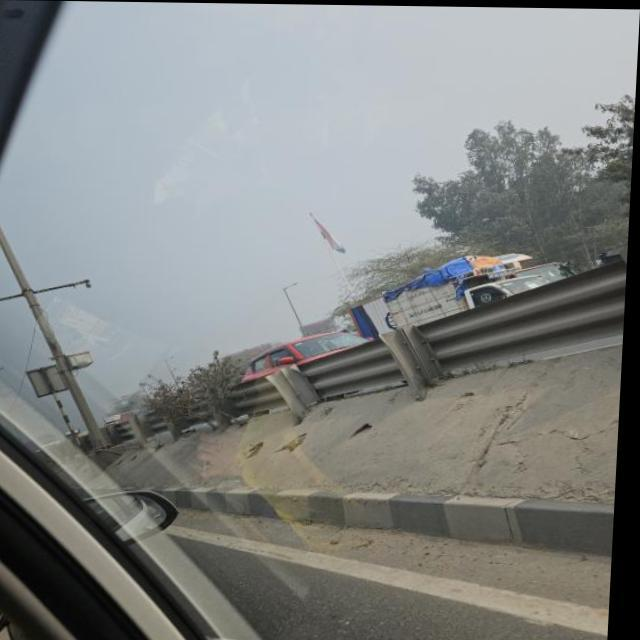covered: (385, 236, 541, 330)
